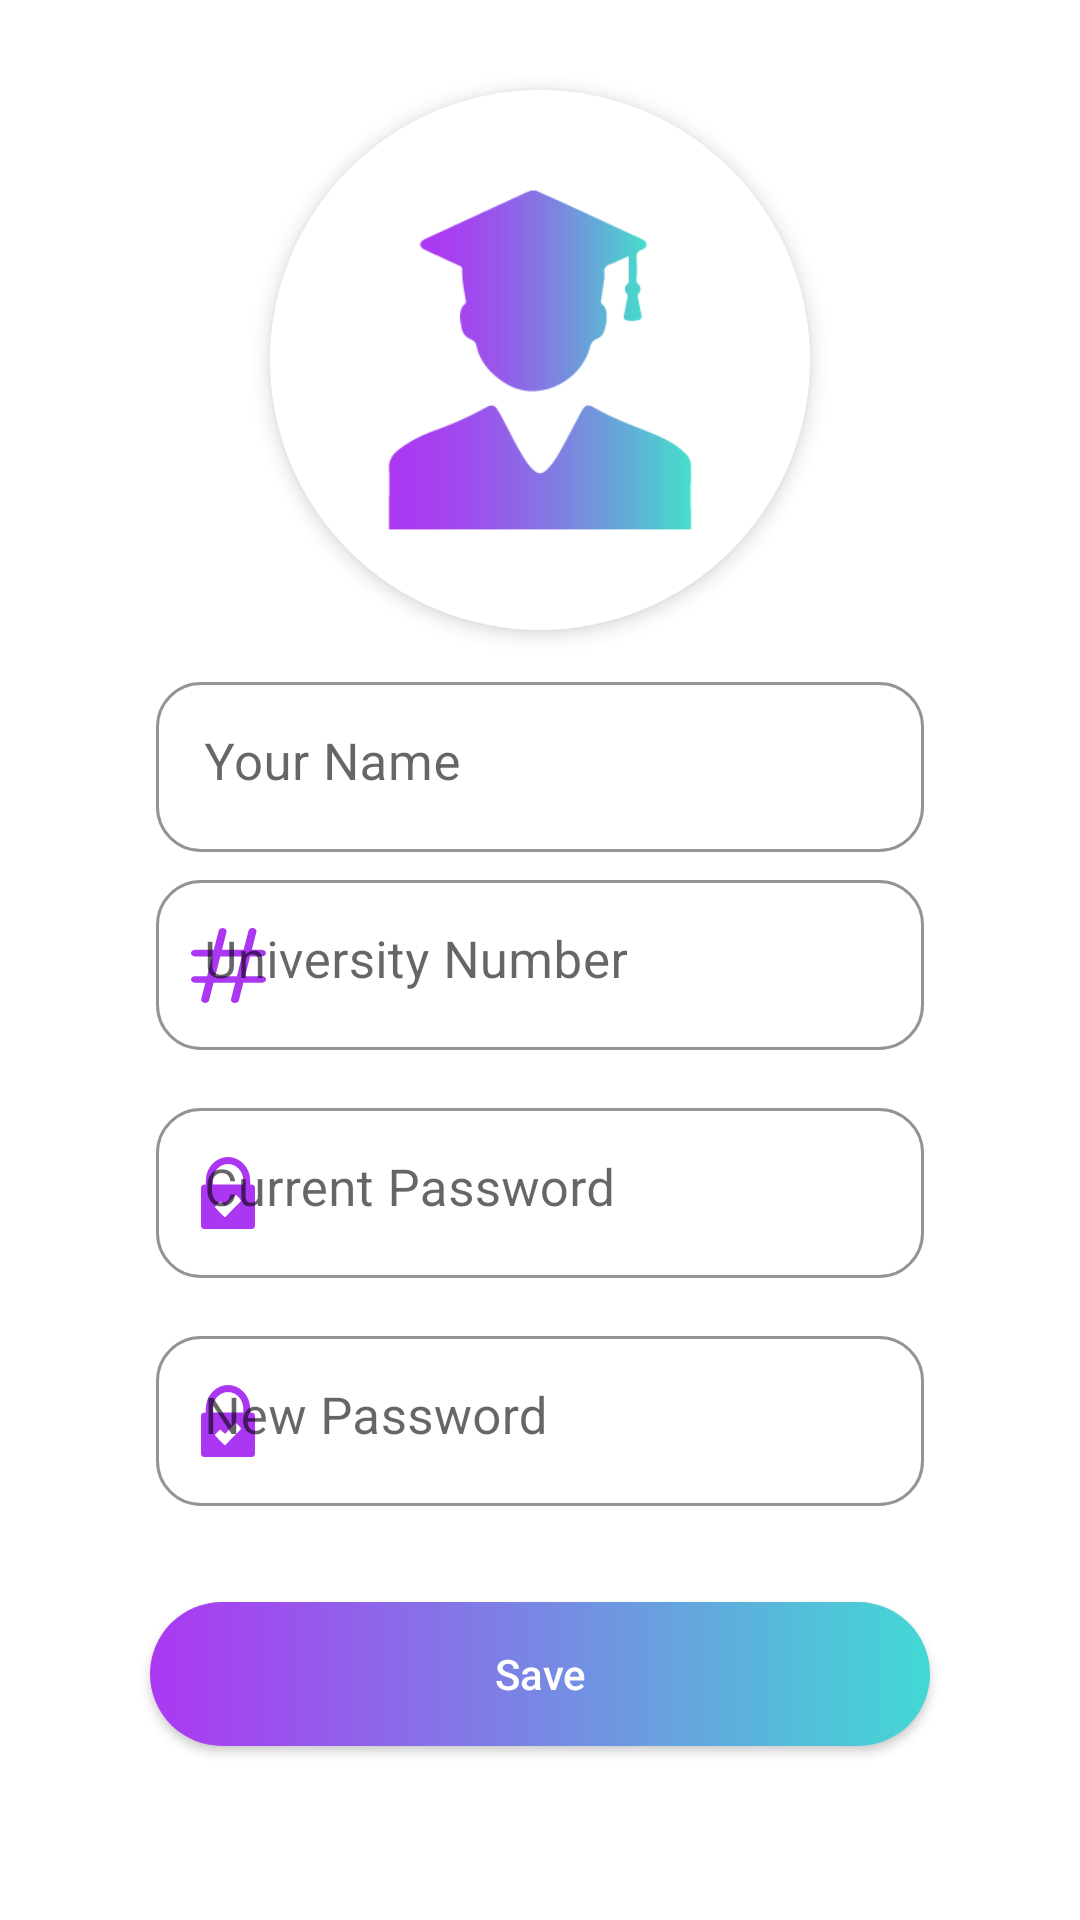

Screen size 1080x1920. Icon name, then its box in pixels as bbox(x1, y1, x2, y2):
student: bbox(388, 190, 692, 530)
